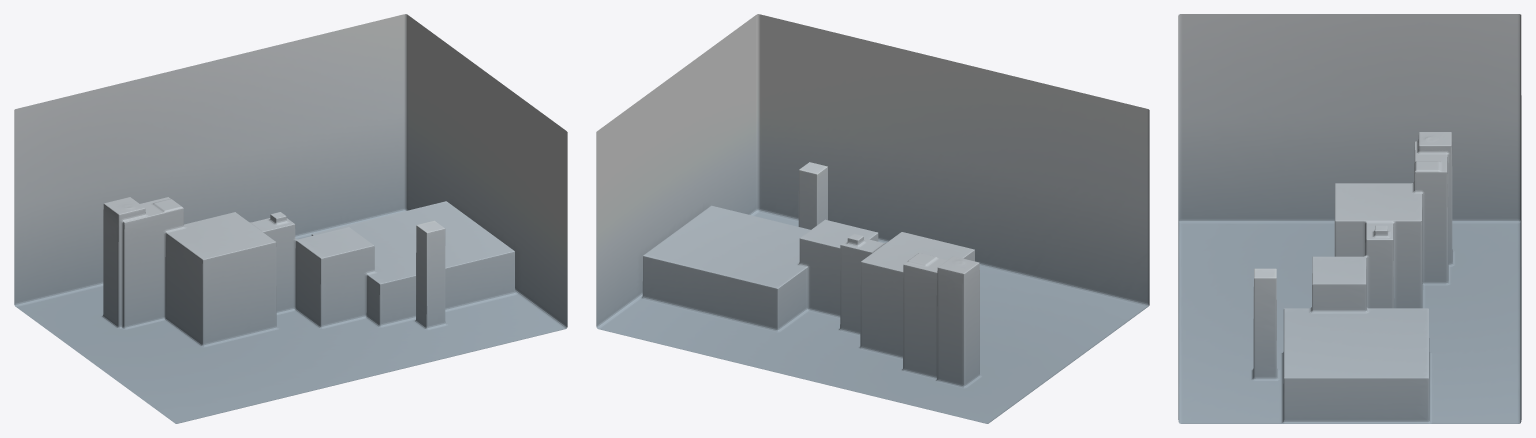
File: frostmothers_cradle_col.glb
3 views of the same model, side by side, from view 1: azimuth 30°, elevation 25°; view 2: azimuth 150°, elevation 25°; view 3: azimuth 270°, elevation 25° (orthographic). The views are drawn at different scales.
Parts seen in each view (by area): view 1: geometry_0; view 2: geometry_0; view 3: geometry_0.
Boxes of the visible parts, x1=… form: geometry_0: x1=14, y1=14, x2=567, y2=423; geometry_0: x1=596, y1=14, x2=1149, y2=423; geometry_0: x1=1178, y1=14, x2=1521, y2=423.
Bounding box in the file's own units: 142 × 67.86 × 101.
